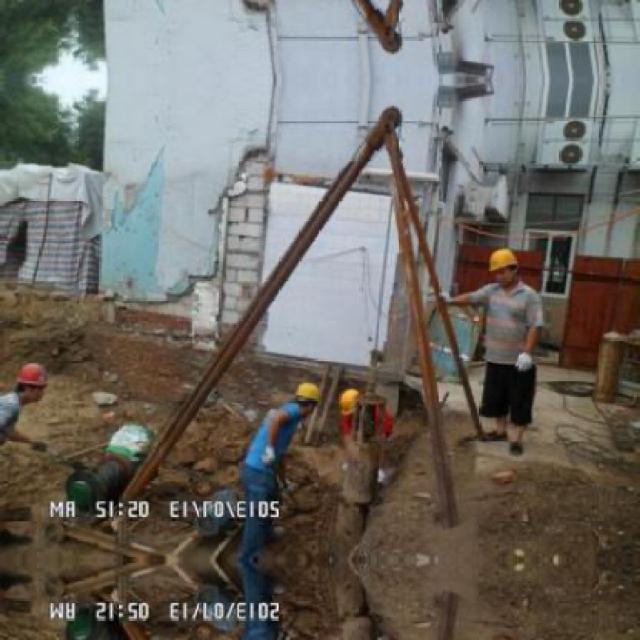helmet: (488, 245, 523, 286), (15, 362, 48, 402), (292, 378, 318, 418), (342, 388, 364, 422)
